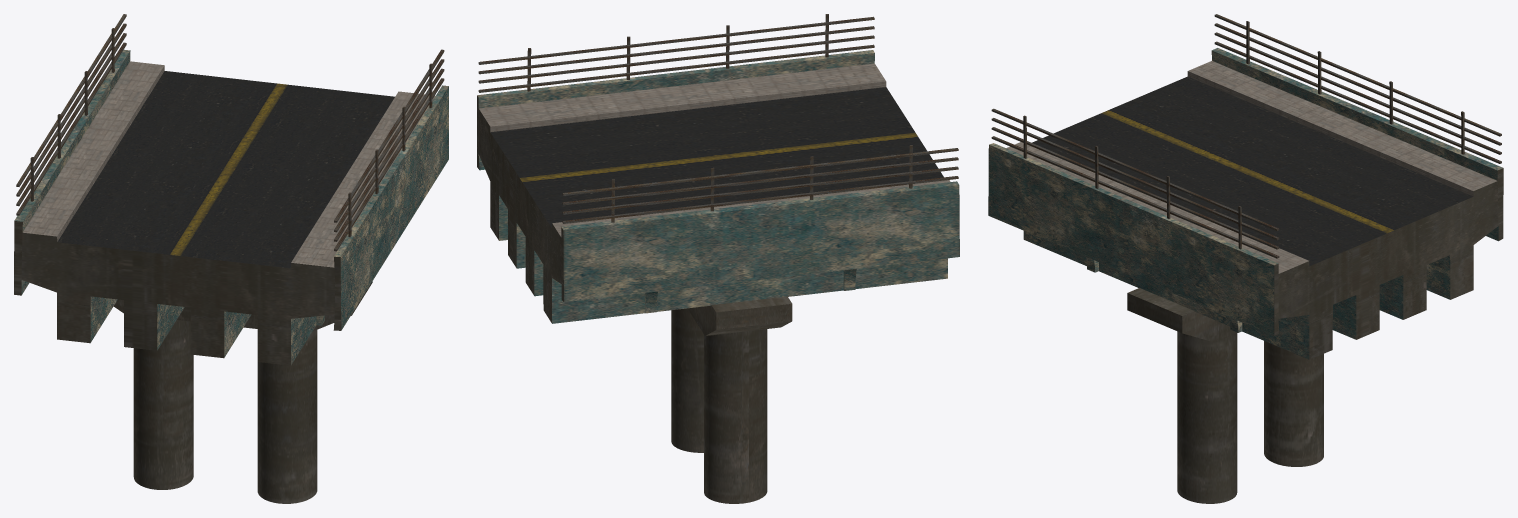
File: modular_road_bridge.glb
The picture shows the model from 3 angles, left to right: view 1: azimuth 30°, elevation 25°; view 2: azimuth 150°, elevation 25°; view 3: azimuth 270°, elevation 25°; orthographic projection. The views are drawn at different scales.
Parts seen in each view (by area): view 1: Cube.001, Cylinder.001, Cube.021, Cube.013; view 2: Cube.001, Cylinder.001, Cube.021, Cube.013; view 3: Cube.001, Cylinder.001, Cube.013, Cube.021.
Boxes of the visible parts, <box> form: Cube.001: <box>14,49,448,365</box>; Cylinder.001: <box>113,281,372,503</box>; Cube.021: <box>334,49,444,251</box>; Cube.013: <box>16,14,126,215</box>; Cube.001: <box>477,50,959,323</box>; Cylinder.001: <box>671,296,792,503</box>; Cube.021: <box>478,14,874,92</box>; Cube.013: <box>562,145,958,223</box>; Cube.001: <box>988,48,1503,359</box>; Cylinder.001: <box>1127,288,1323,503</box>; Cube.013: <box>1214,14,1501,163</box>; Cube.021: <box>991,108,1279,258</box>.
Bounding box in the file's own units: 5098 × 3927 × 5097.
5 materials, 5 textured.
